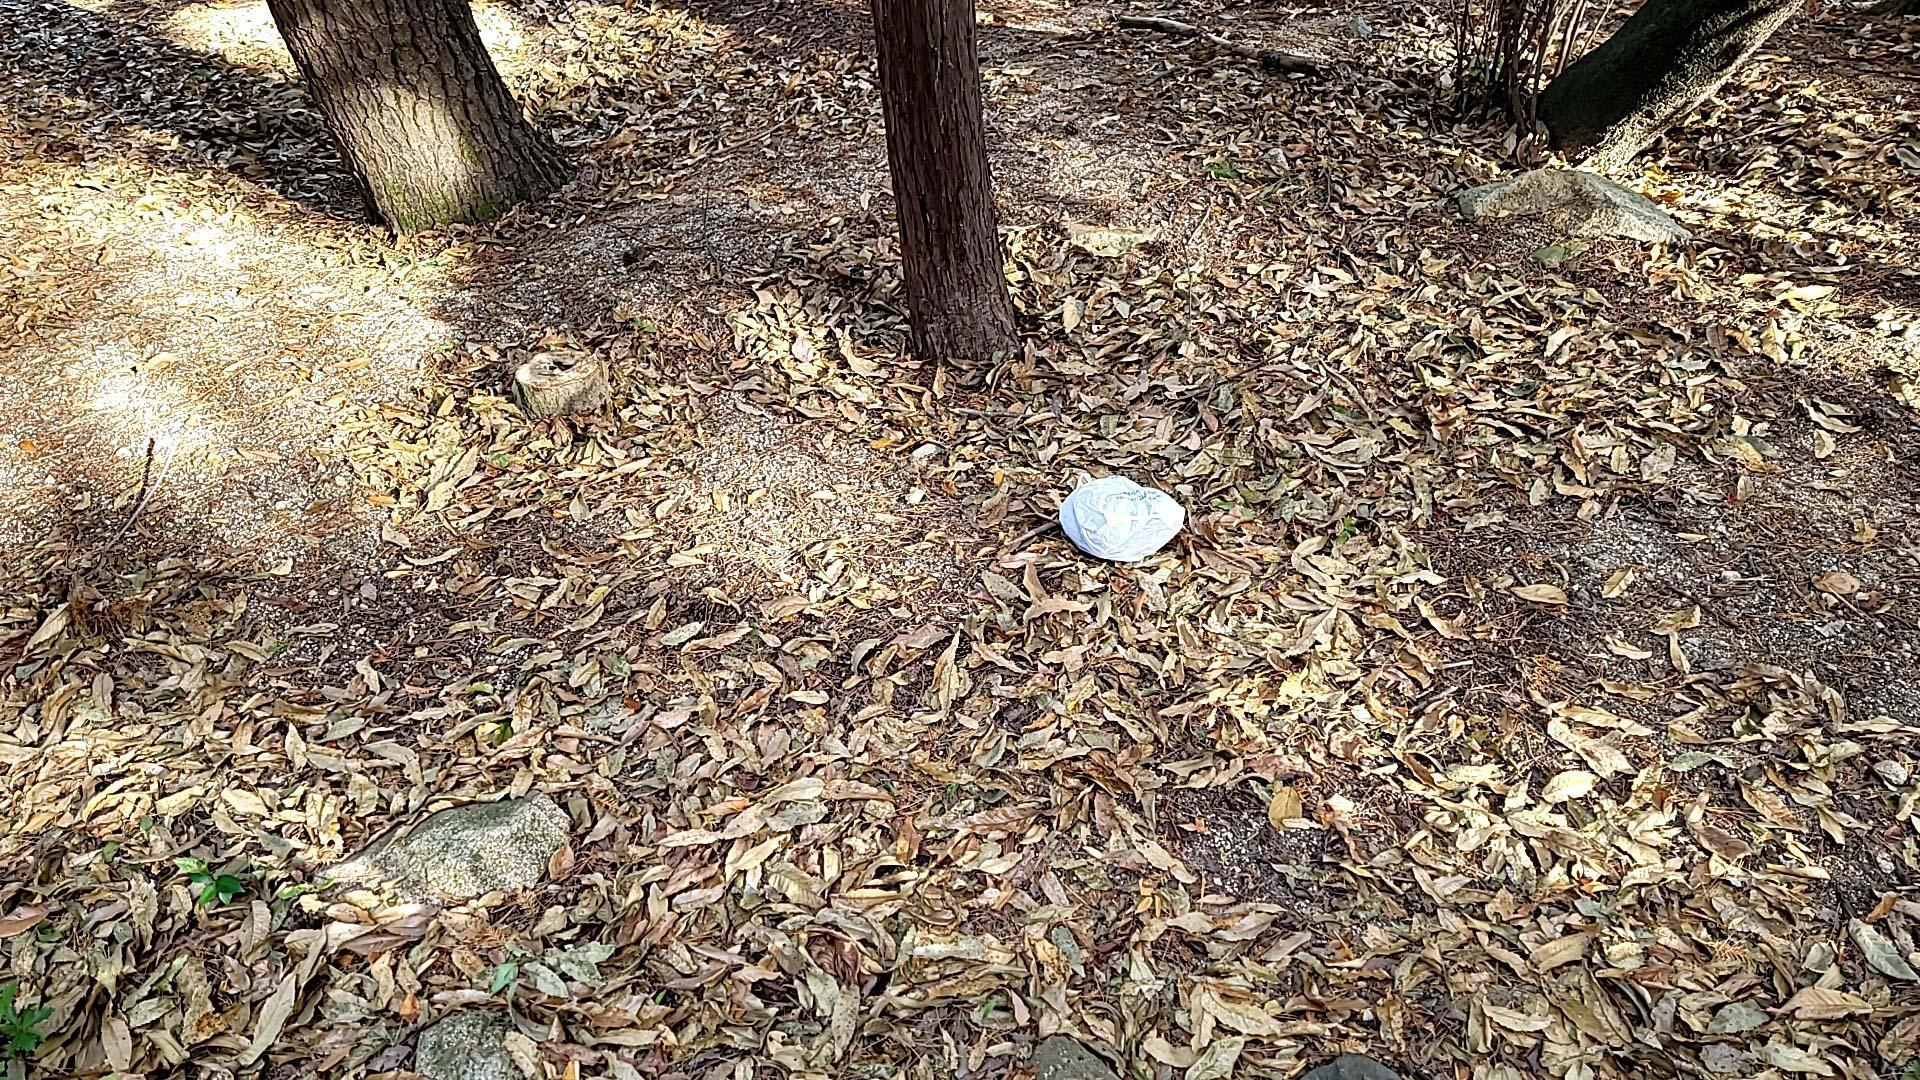white_bag: (1050, 464, 1191, 568)
